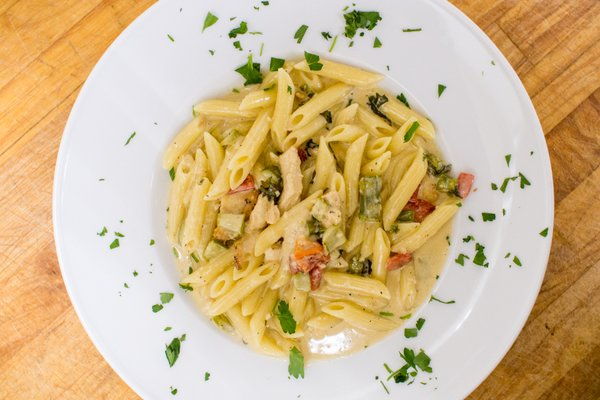sushi: (17, 0, 556, 391)
